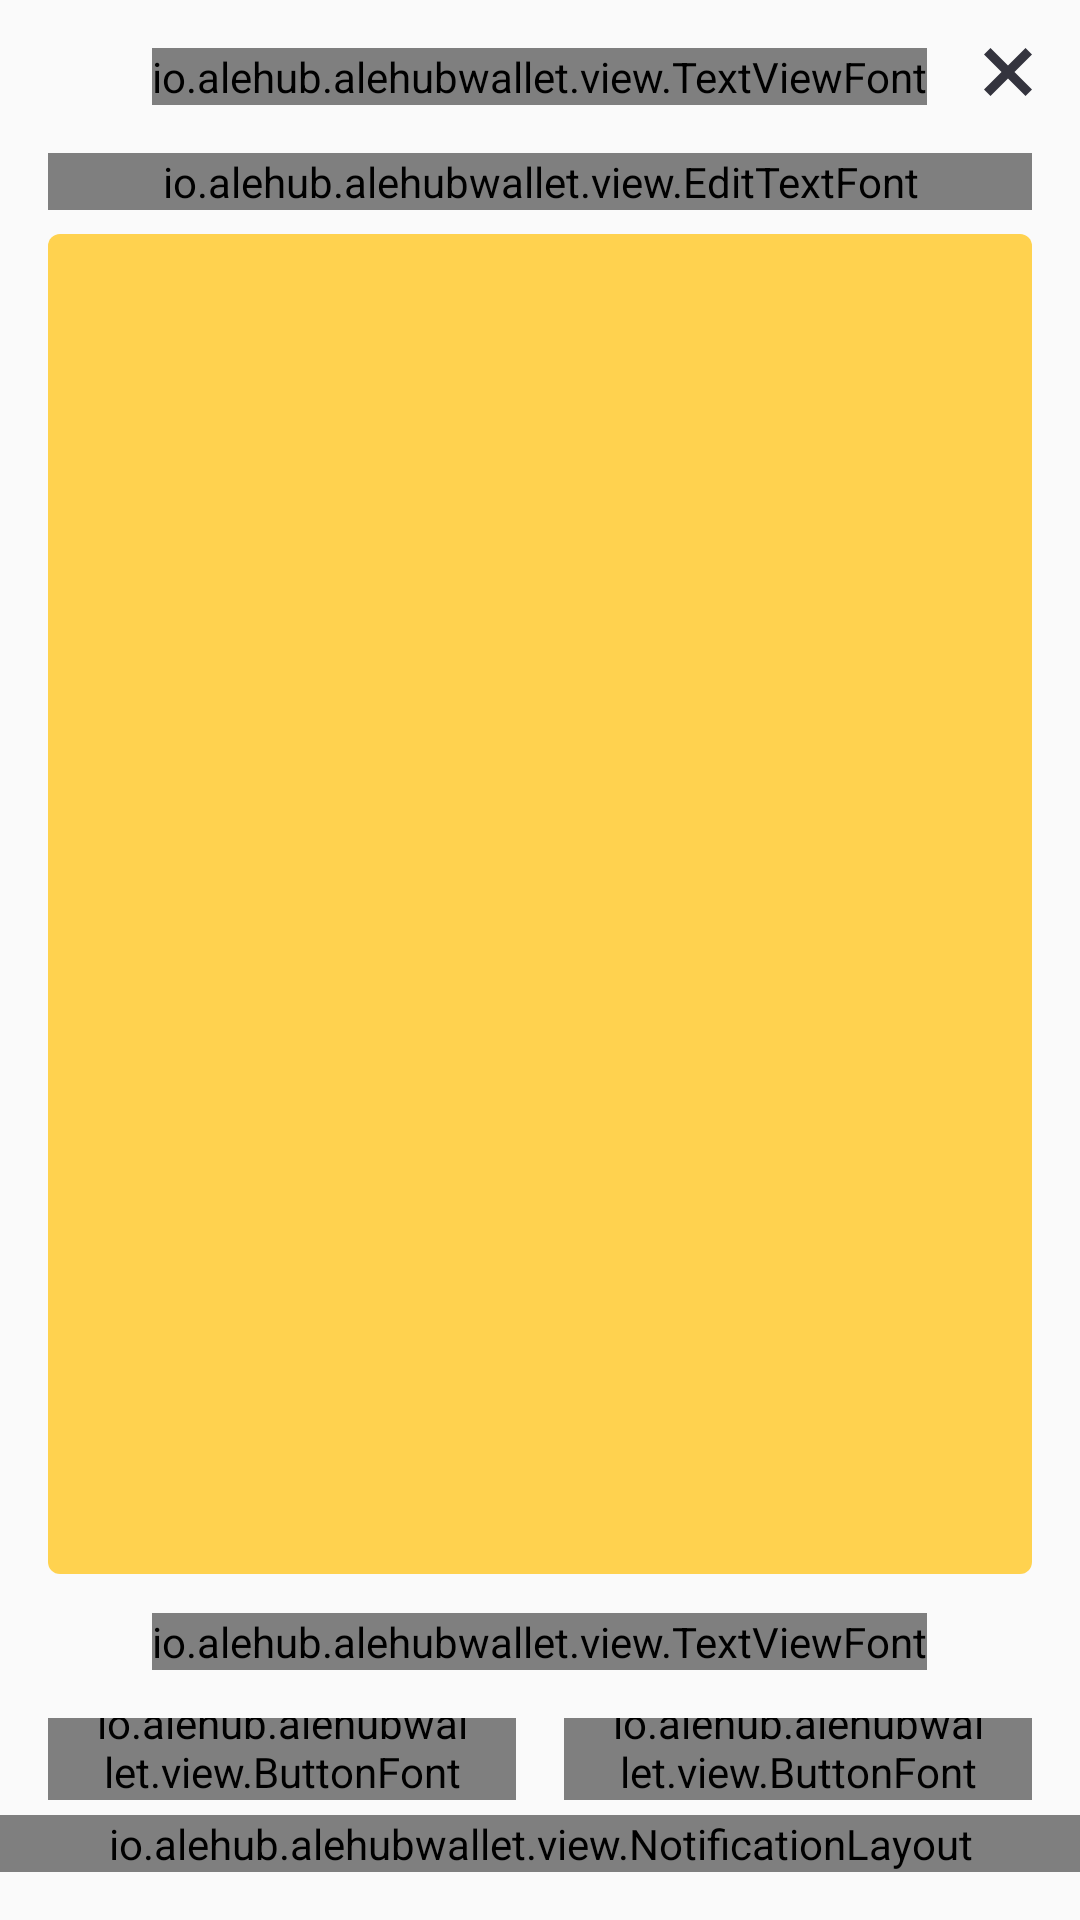

Where to tap for icons on this 1080*1920 app screen, as (x=x, y=y):
close cross: (x=1008, y=72)
